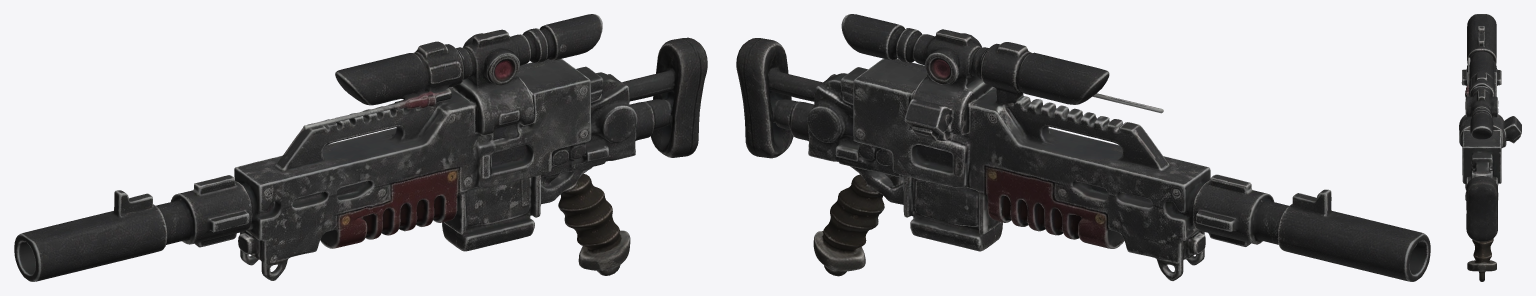
Rendered from longshot.glb.
3 views of the same model, side by side, from view 1: azimuth 30°, elevation 25°; view 2: azimuth 150°, elevation 25°; view 3: azimuth 270°, elevation 25° (orthographic). The views are drawn at different scales.
Bounding box in the file's own units: 1.9 × 0.7327 × 0.266.
1 material, 1 textured.
